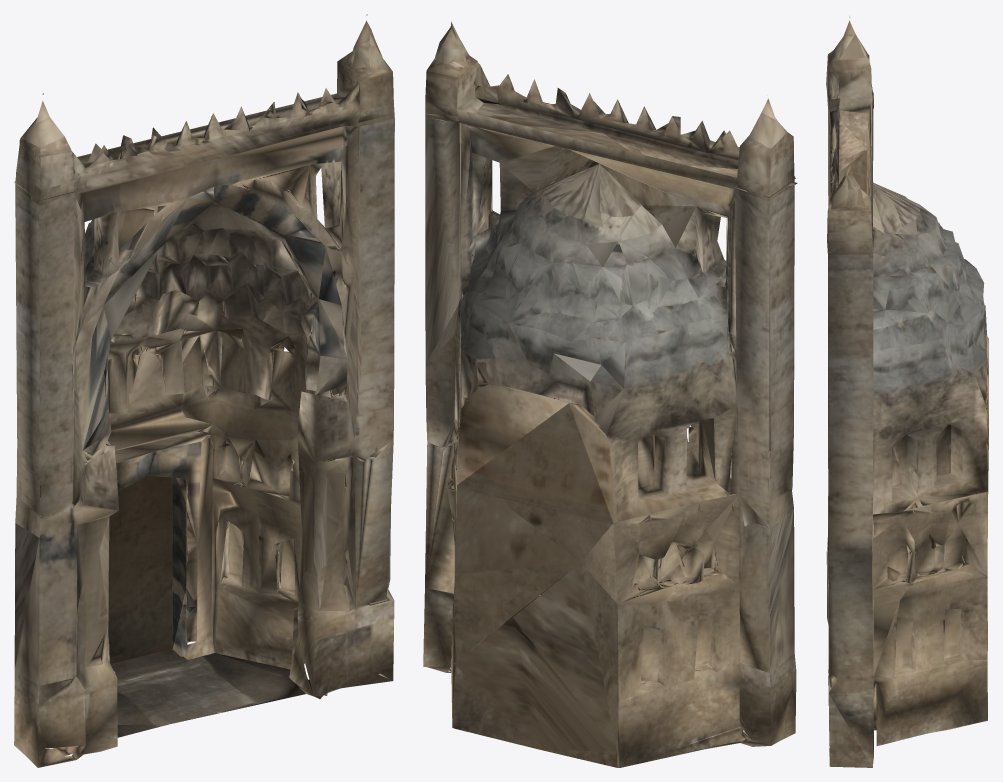
File: cai_mosque_portal.glb
3 renders of one model, left to right at view 1: azimuth 30°, elevation 25°; view 2: azimuth 150°, elevation 25°; view 3: azimuth 270°, elevation 25°, orthographic. The views are drawn at different scales.
Visible parts, largest first — view 1: prop; view 2: prop; view 3: prop.
Part boxes in pixels (x1,y1,x2,y2): prop: (14,14,394,767); prop: (423,21,797,767); prop: (826,16,988,767).
Size of the model in its own units: 6.86 by 12 by 2.94.
1 material, 1 textured.
